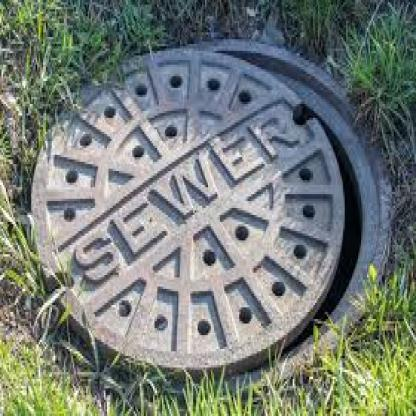closed manhole-not overflowing-: (29, 46, 388, 380)
